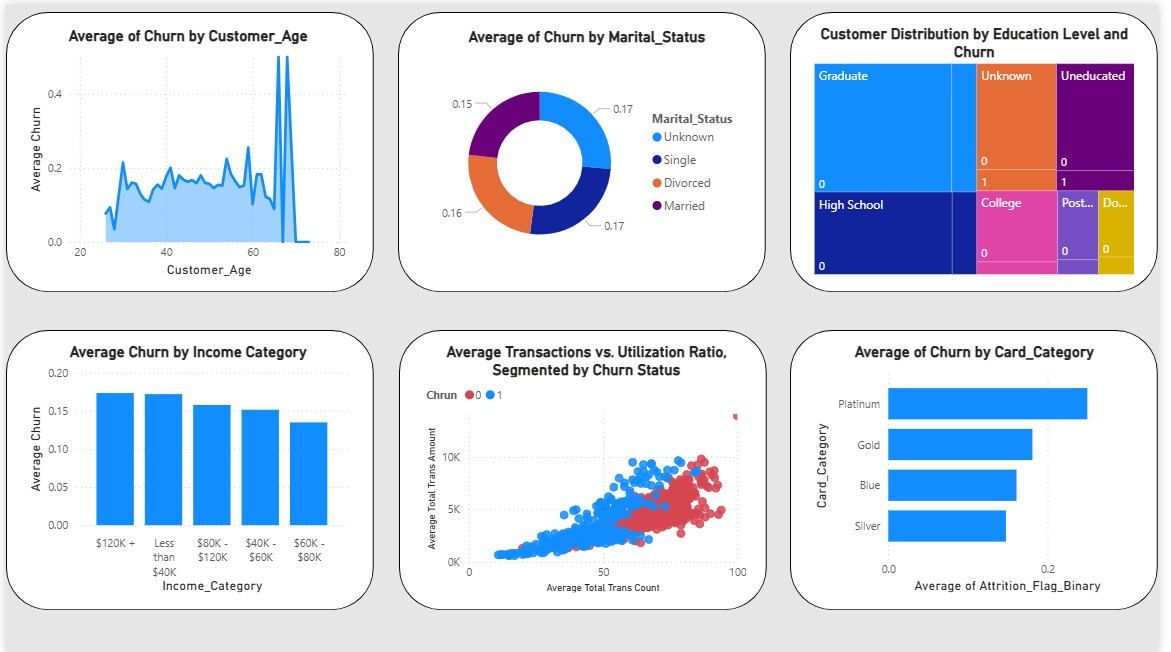

The page's visual inventory and layout, read from the dashboard file:
{"tool":"powerbi","page":{"name":"Page 2","canvas":[1280,720],"ordinal":1},"visuals":[{"type":"shape","box":[0,7.8,408.6,311.1],"z":0},{"type":"shape","box":[0,361,408.6,311.1],"z":500},{"type":"shape","box":[435.7,7.8,408.6,311.1],"z":750},{"type":"shape","box":[871.4,7.8,408.6,311.1],"z":875},{"type":"shape","box":[871.4,361,408.6,311.1],"z":937},{"type":"shape","box":[436.3,361,408.6,311.1],"z":968},{"type":"areaChart","title":"Average of Churn by Customer_Age","fields":{"Category":["creditcard customer_churn_predictions.Customer_Age"],"Y":["Avg(creditcard customer_churn_predictions.churn)"]},"box":[20.1,24.7,365,282],"z":1000},{"type":"columnChart","title":"Average Churn by Income Category","fields":{"Category":["creditcard credit_card_customers_clean.Income_Category"],"Y":["Avg(creditcard credit_card_customers_clean.Attrition_Flag_Binary)"]},"box":[20.1,375.3,365,282.4],"z":2000},{"type":"clusteredBarChart","title":"Average of Churn by Card_Category","fields":{"Category":["creditcard credit_card_customers_clean.Card_Category"],"Y":["Avg(creditcard credit_card_customers_clean.Attrition_Flag_Binary)"]},"box":[893.6,375.4,365.4,282.4],"z":3000},{"type":"scatterChart","title":"Average Transactions vs. Utilization Ratio, Segmented by Churn Status","fields":{"Series":["creditcard credit_card_customers_clean.Attrition_Flag_Binary"],"X":["Avg(creditcard credit_card_customers_clean.Total_Trans_Ct)"],"Y":["Avg(creditcard credit_card_customers_clean.Total_Trans_Amt)"],"Category":["creditcard credit_card_customers_clean.Avg_Utilization_Ratio"]},"box":[461.7,375.4,365.4,282.4],"z":4000},{"type":"treemap","title":"Customer Distribution by Education Level and Churn","fields":{"Values":["Sum(creditcard credit_card_customers_clean.CLIENTNUM)"],"Details":["creditcard credit_card_customers_clean.Attrition_Flag_Binary"],"Group":["creditcard credit_card_customers_clean.Education_Level"]},"box":[893.6,22.1,365.4,282.4],"z":5000},{"type":"donutChart","title":"Average of Churn by Marital_Status","fields":{"Category":["creditcard credit_card_customers_clean.Marital_Status"],"Y":["Avg(creditcard credit_card_customers_clean.Attrition_Flag_Binary)"]},"box":[462.8,25.5,364.3,281.2],"z":6000}]}

Visuals, with their boxes in screenshot pixels (x1, y1, x2, y2), scaled from the page's 1280x720 canvas onto the 1171x652 screenshot:
shape: (0,7,374,289)
shape: (0,327,374,609)
shape: (399,7,772,289)
shape: (797,7,1170,289)
shape: (797,327,1170,609)
shape: (399,327,773,609)
"Average of Churn by Customer_Age" areaChart: (18,22,352,278)
"Average Churn by Income Category" columnChart: (18,340,352,596)
"Average of Churn by Card_Category" clusteredBarChart: (818,340,1152,596)
"Average Transactions vs. Utilization Ratio, Segmented by Churn Status" scatterChart: (422,340,757,596)
"Customer Distribution by Education Level and Churn" treemap: (818,20,1152,276)
"Average of Churn by Marital_Status" donutChart: (423,23,757,278)
